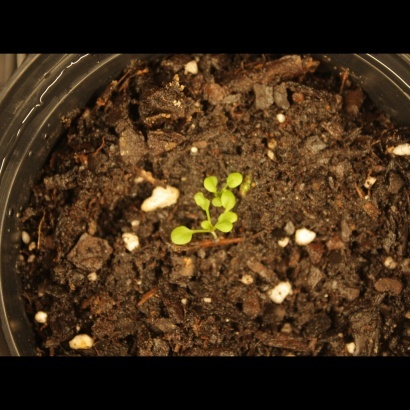leaf: (169, 225, 195, 248), (191, 216, 214, 239), (189, 191, 212, 214), (201, 175, 224, 198), (227, 166, 250, 189), (216, 220, 239, 243), (216, 190, 239, 213), (216, 204, 239, 227)
